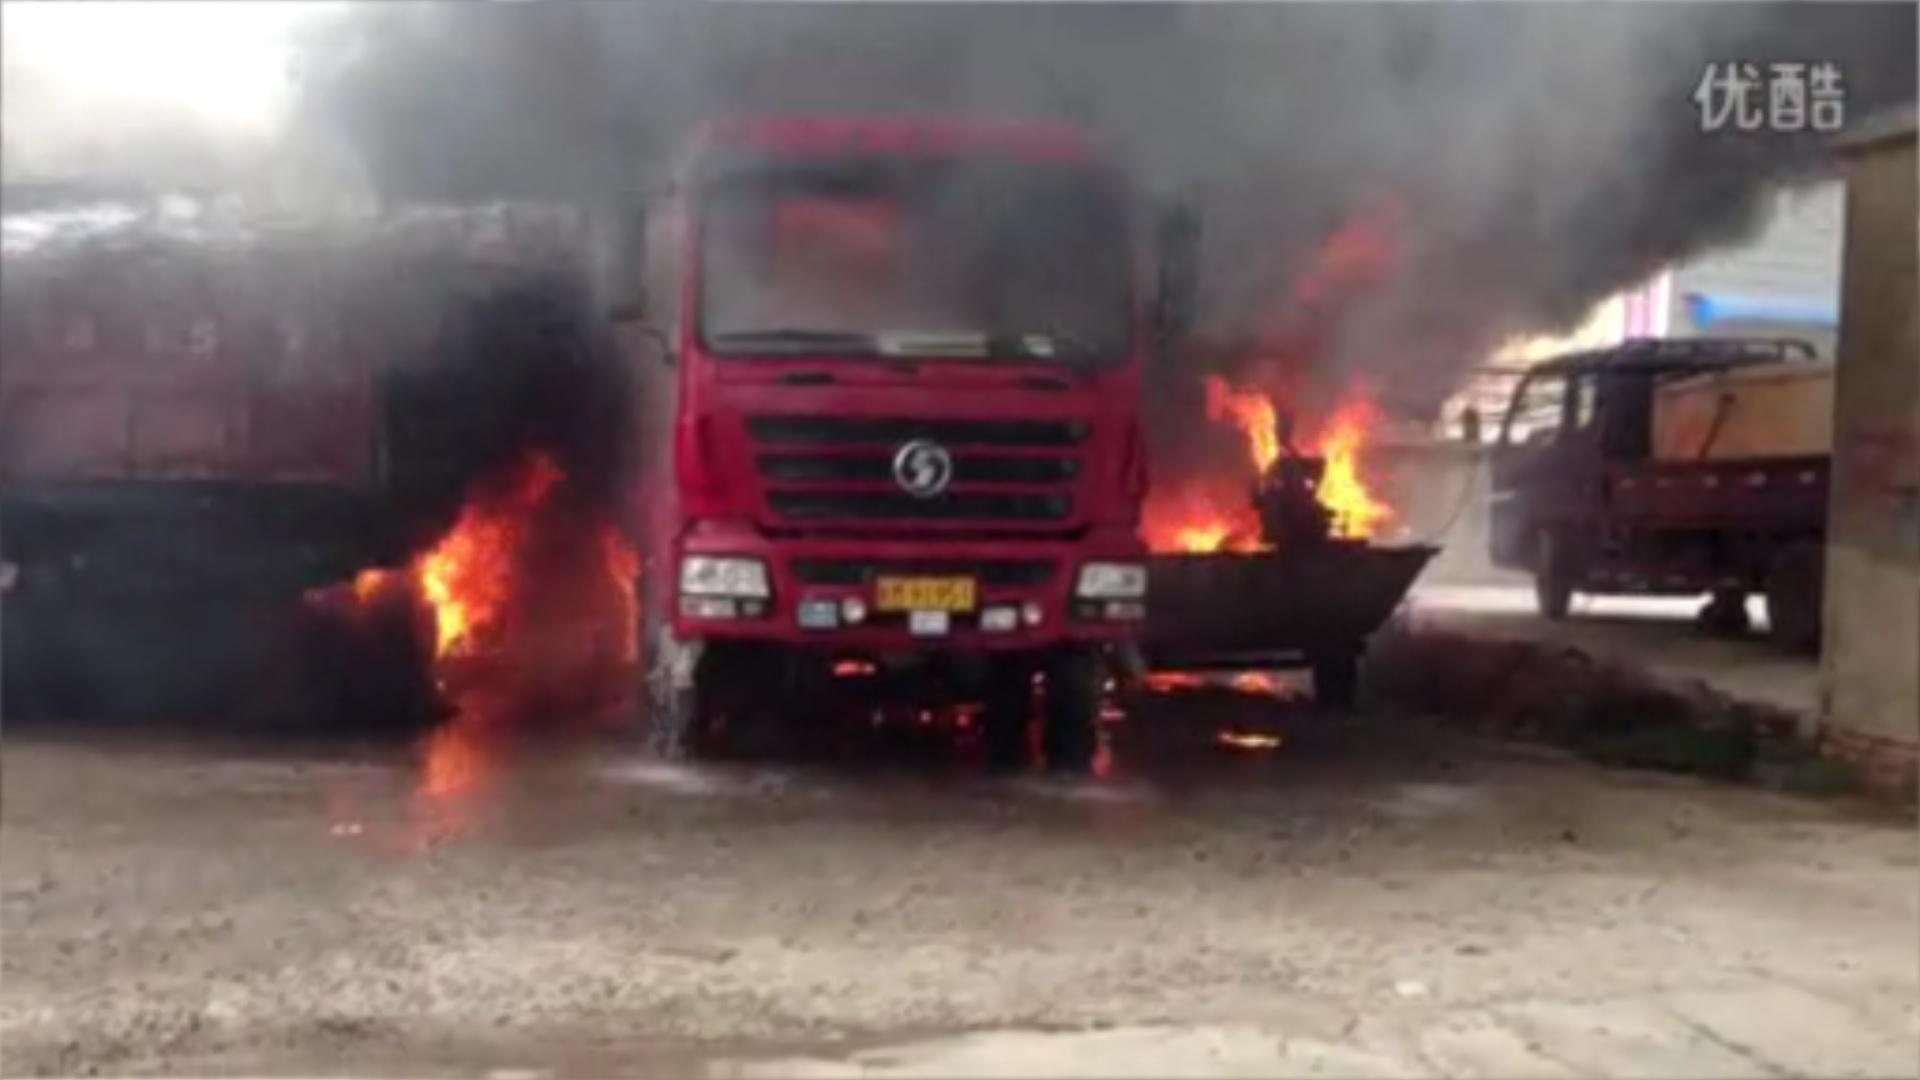fire: (1154, 385, 1394, 554), (388, 469, 541, 655)
